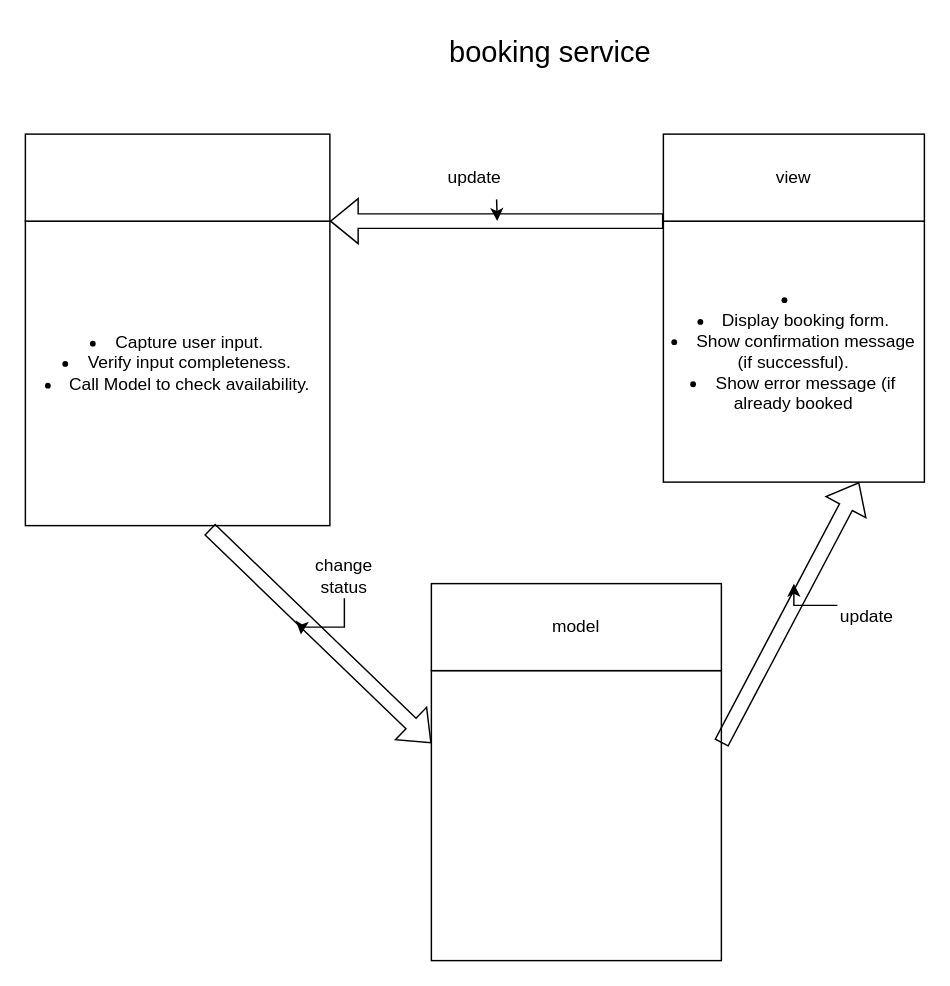
Some shapes in this 950 by 986 pixel diagram are drawn without their labels. The centre of each missing label's shape, as x and y in pixels:
"Check availability. Create booking entry (if available). Return booking status." goes at point 575,815.
"controller" goes at point 177,177.
